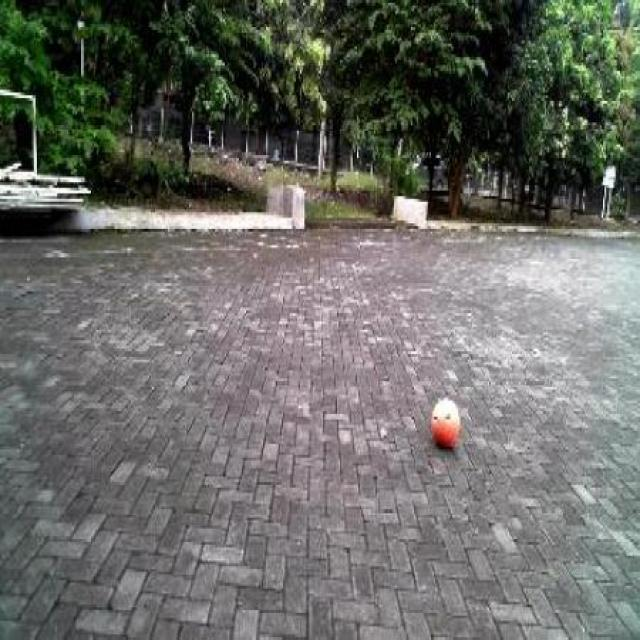buoy: (424, 386, 465, 456)
